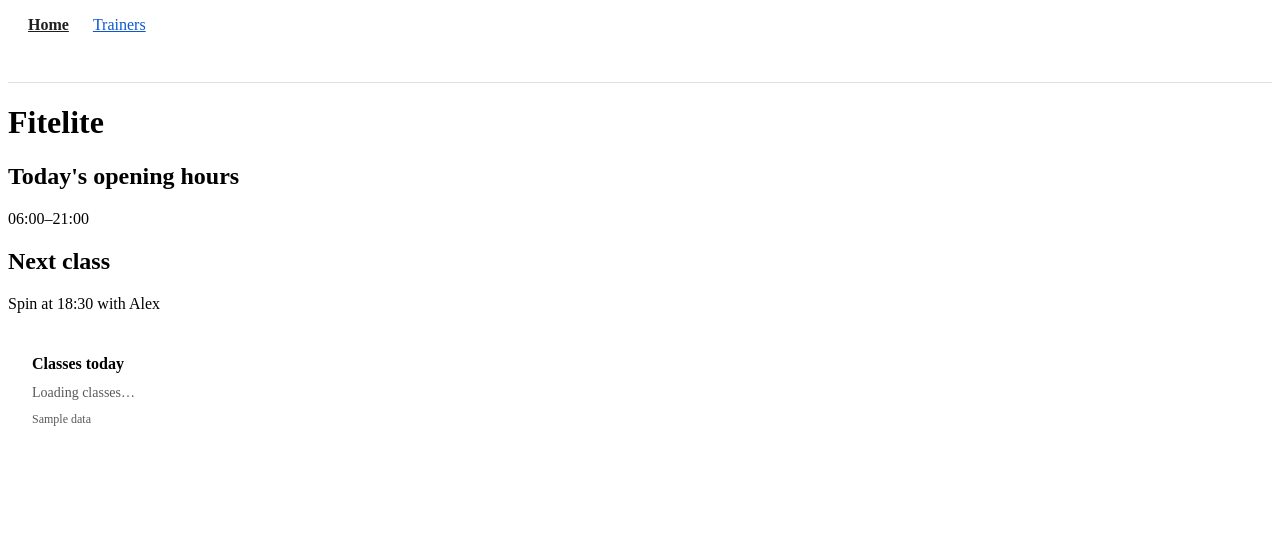
Test: GMS navigation (FIT-941 AC-001) › selecting Trainers opens the Trainers page, marks it active and loads through the gateway
The width and height of the screenshot is (1280, 554).
Later steps or results of the test are not shown.
Click the link "Trainers" at [119, 24], box [93, 16, 146, 33]
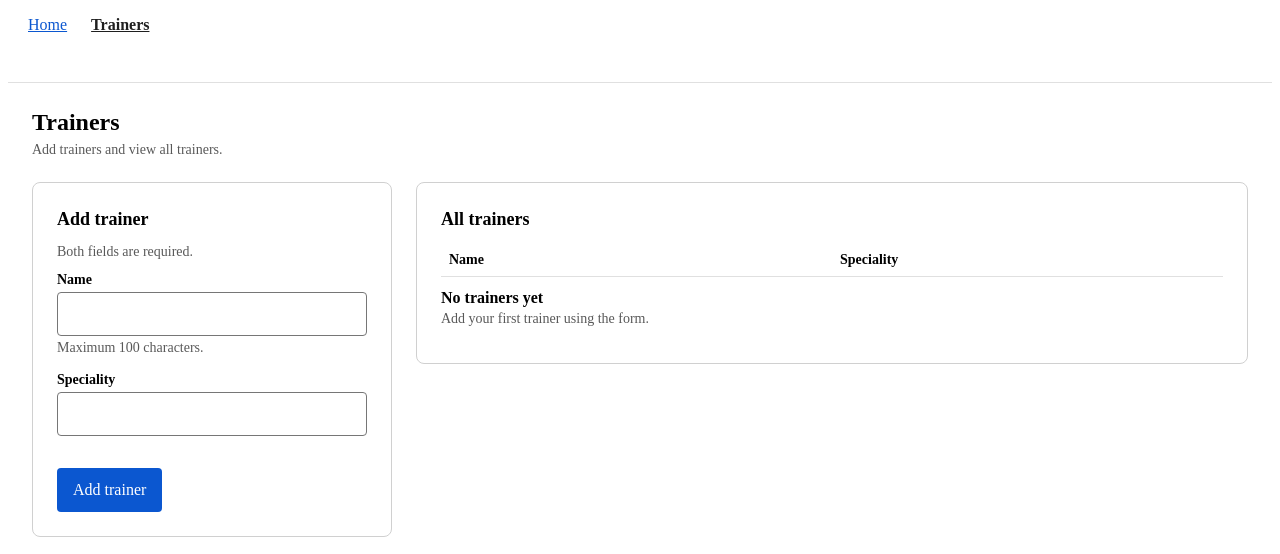
Now the heading "Trainers" is shown, box [32, 109, 120, 135]
Now the text "No trainers yet" is shown, box [441, 289, 543, 306]
# Unrelated navigation is unchanged and still usable.
Click the link "Home" at [48, 24], box [28, 16, 67, 33]
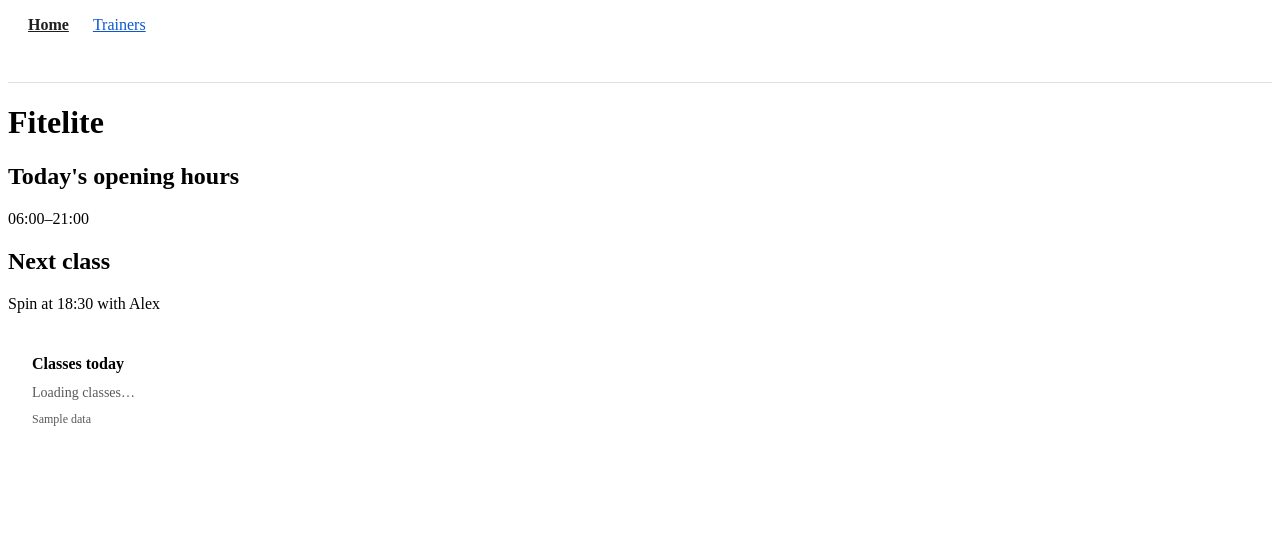
Now the heading "Fitelite" is shown, box [8, 104, 104, 140]
